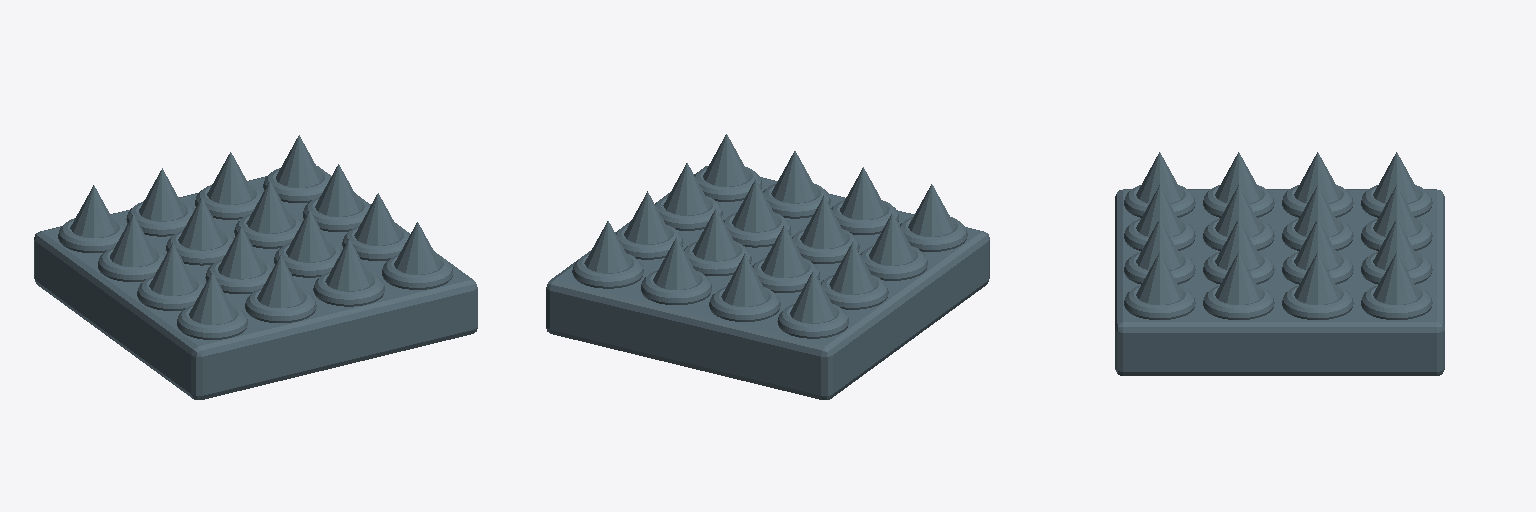
Rendered from trap.obj.
3 views of the same model, side by side, from view 1: azimuth 30°, elevation 25°; view 2: azimuth 150°, elevation 25°; view 3: azimuth 270°, elevation 25° (orthographic).
Visible parts, largest first — view 1: trap; view 2: trap; view 3: trap.
Boxes of the visible parts, box(x1,y1,x2,y2) form: trap: box(34, 135, 477, 399); trap: box(546, 134, 989, 399); trap: box(1115, 152, 1444, 375).
Size of the model in its own units: 3.28 by 1.18 by 3.28.